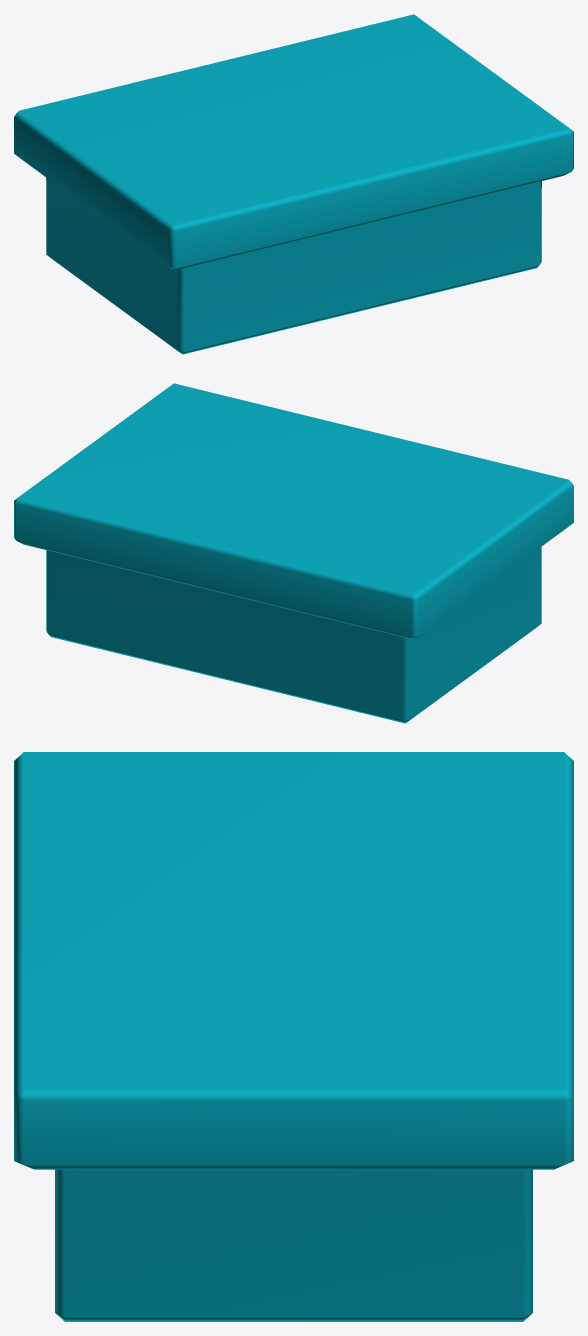
File: Public_6_Box_7.glb
The picture shows the model from 3 angles, top to bottom: view 1: azimuth 30°, elevation 25°; view 2: azimuth 150°, elevation 25°; view 3: azimuth 270°, elevation 25°; orthographic projection. The views are drawn at different scales.
Parts seen in each view (by area): view 1: Public_6_Box_7; view 2: Public_6_Box_7; view 3: Public_6_Box_7.
Part boxes in pixels (<box>): Public_6_Box_7: <box>14,14,573,354</box>; Public_6_Box_7: <box>14,383,573,723</box>; Public_6_Box_7: <box>14,752,573,1321</box>.
Bounding box in the file's own units: 2.14 × 0.7267 × 1.47.
1 material, 1 textured.
